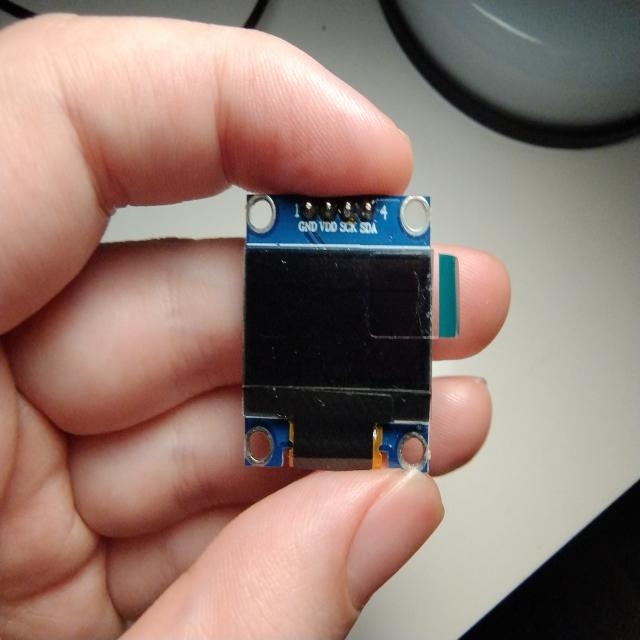oled: (232, 180, 464, 488)
